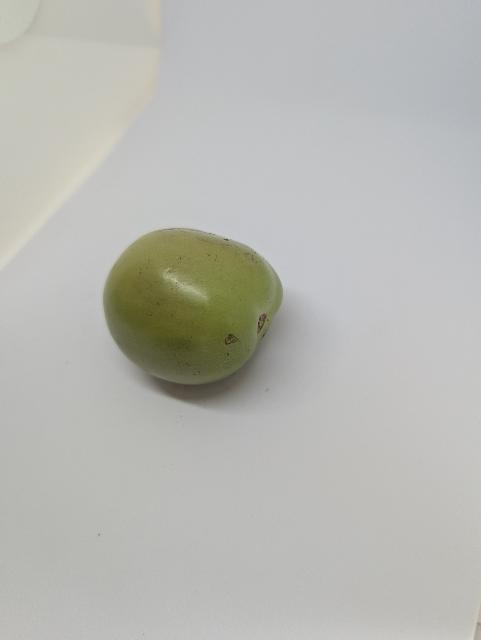green: (93, 210, 288, 392)
